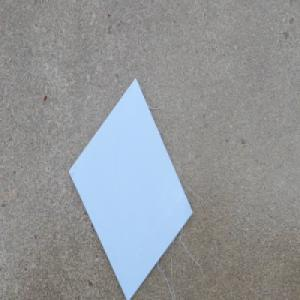PaintChip: (66, 77, 194, 300)
